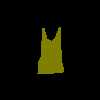canottiera: (37, 26, 64, 74)
